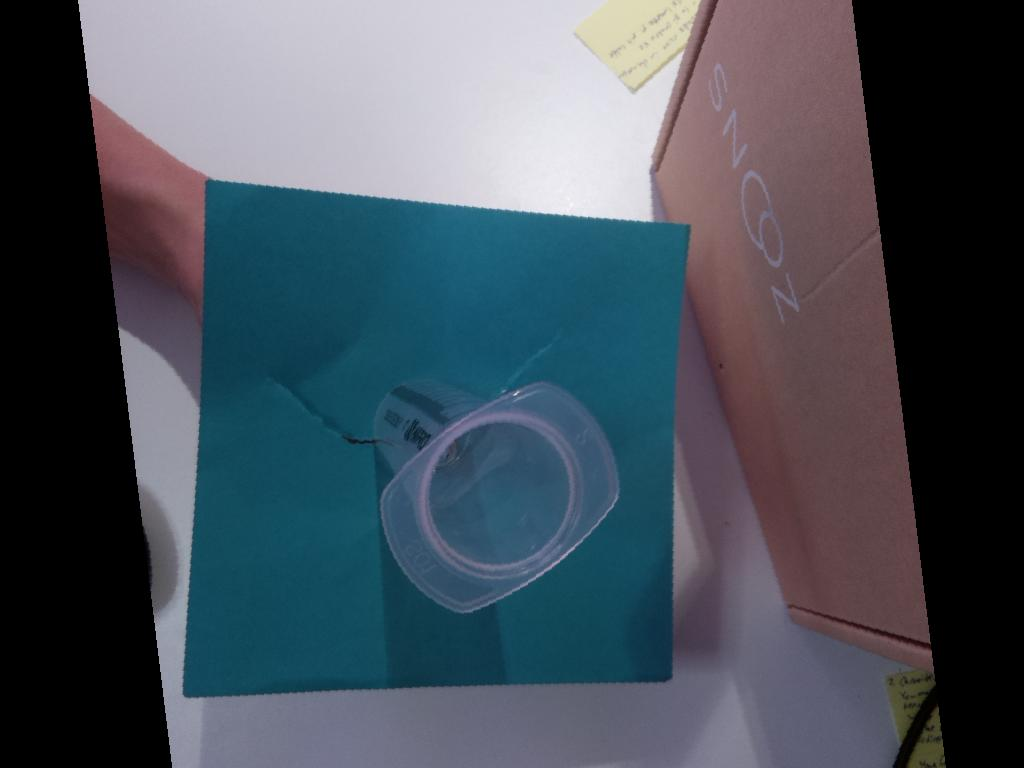clean: (379, 379, 621, 615)
